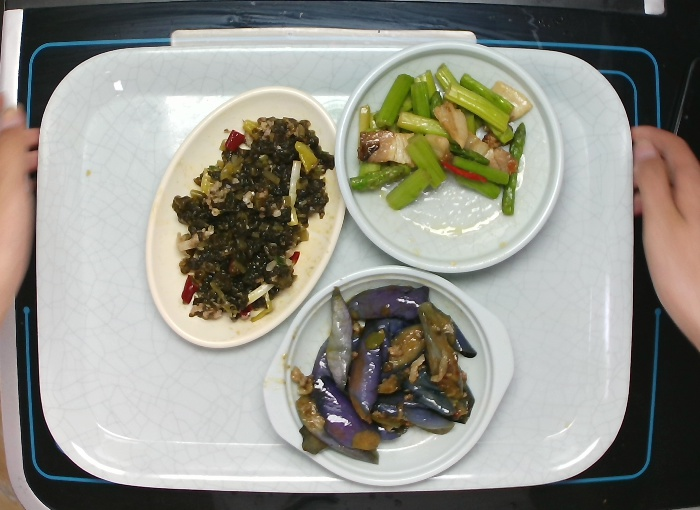JYsf-Shuang_Er_Pan: (258, 261, 517, 489)
JYsf-Tuo_Yuan_Wan: (143, 84, 350, 350)
JYsf-Xiao_Yuan_Pan: (330, 41, 567, 273)
